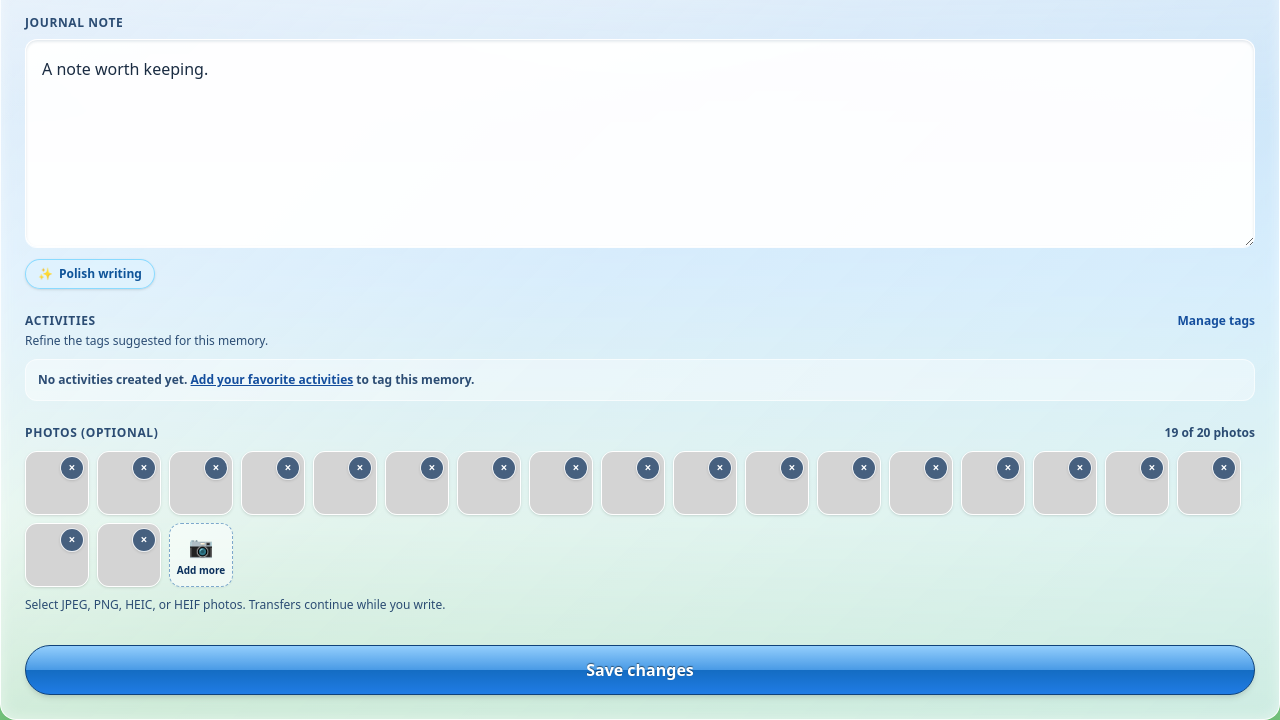
Test: NewEntryForm photo state › updates capacity when an existing photo is removed
(page scrolled)
Click the button named "Remove attached photo 1" at (72, 468), box [60, 456, 84, 480]
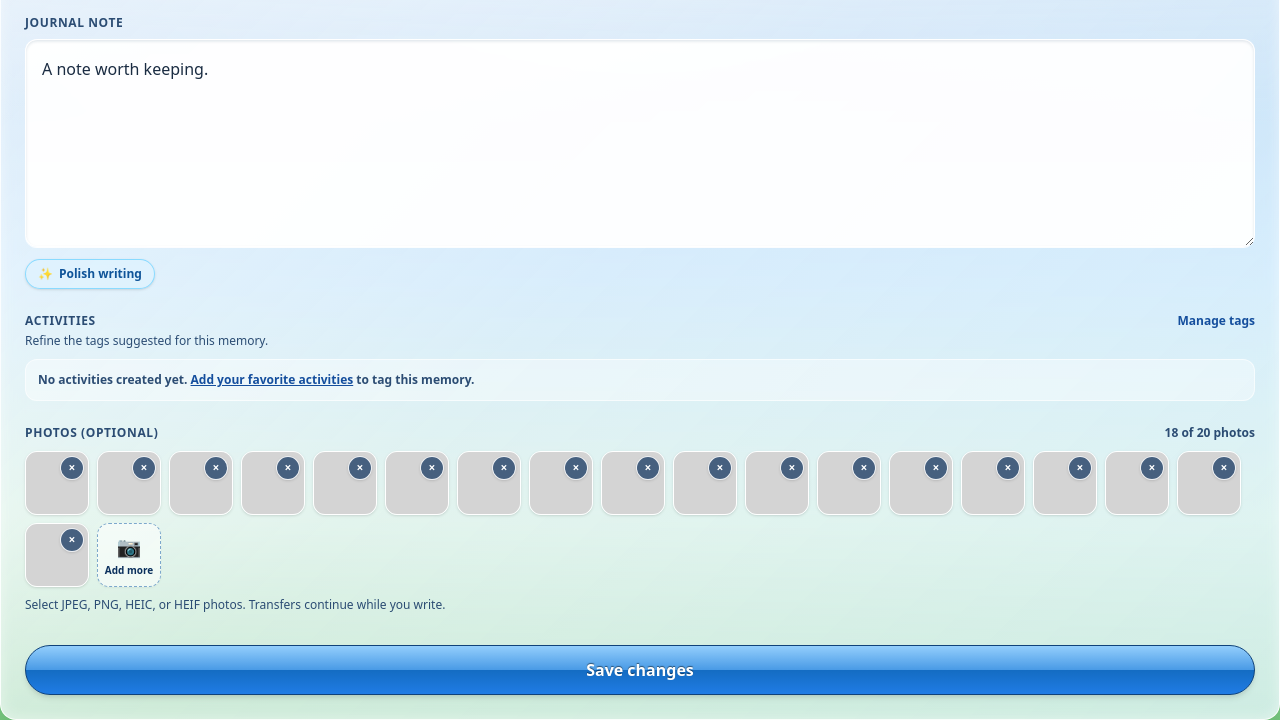
Expected: the button with aria-label "Add more photos" is shown, [97, 523, 161, 587]
Result: the text "18 of 20 photos" is shown at [1165, 425, 1255, 441]
